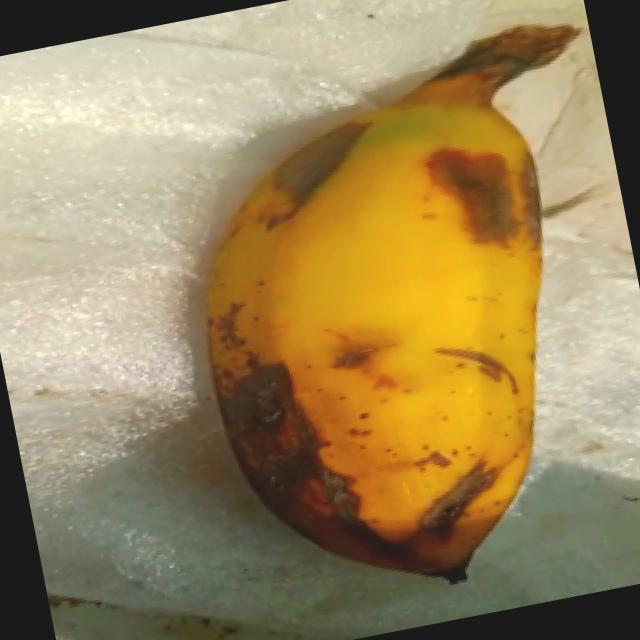Rotten_Banana: (138, 0, 640, 640)
